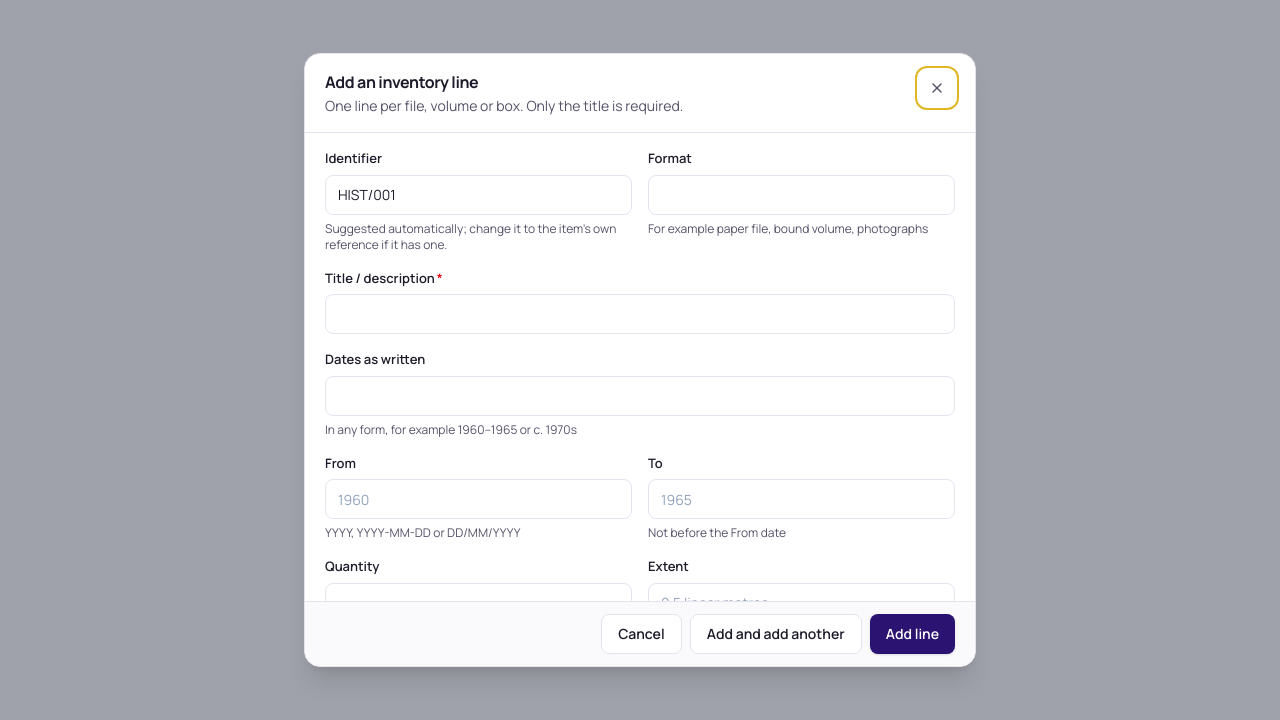
InventoryLineDialog › keeps the form open with the next identifier after "Add and add another"
The image size is (1280, 720).
Type "Board minutes" into the field labelled "Title / description*" at (640, 314), box [325,294,955,334]
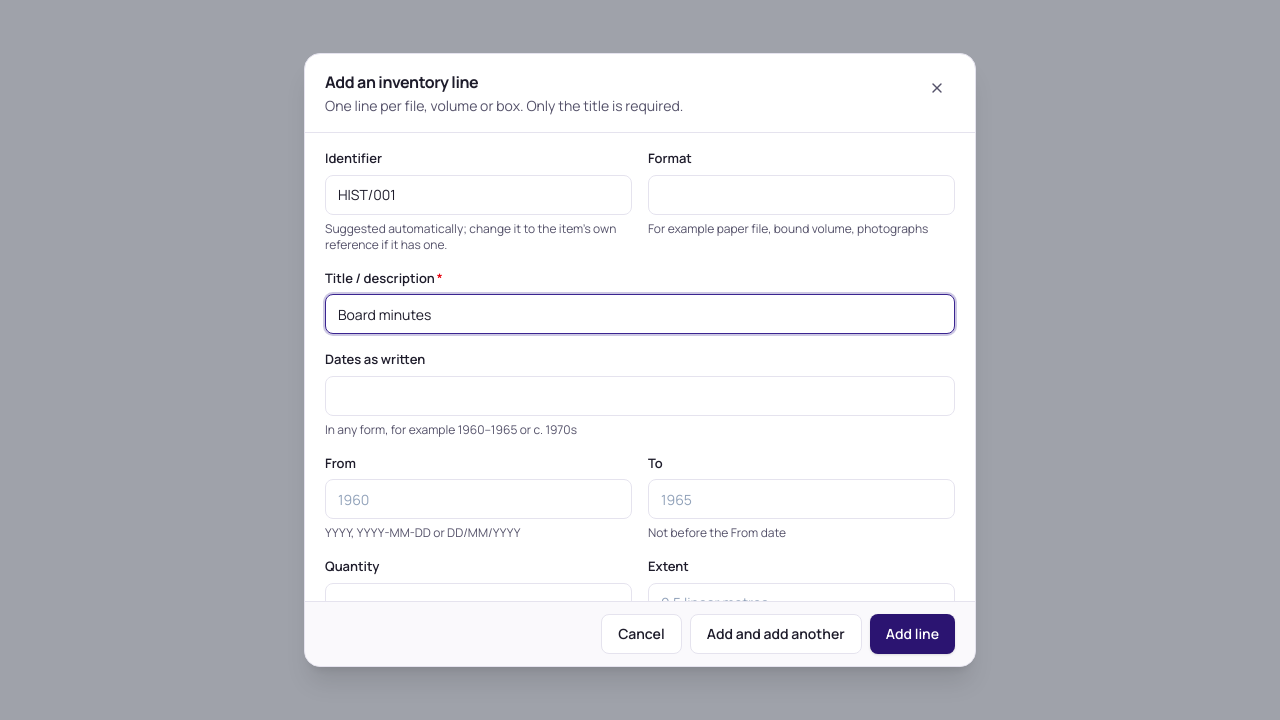
Click the button "Add and add another" at (776, 634), box [690,614,862,654]
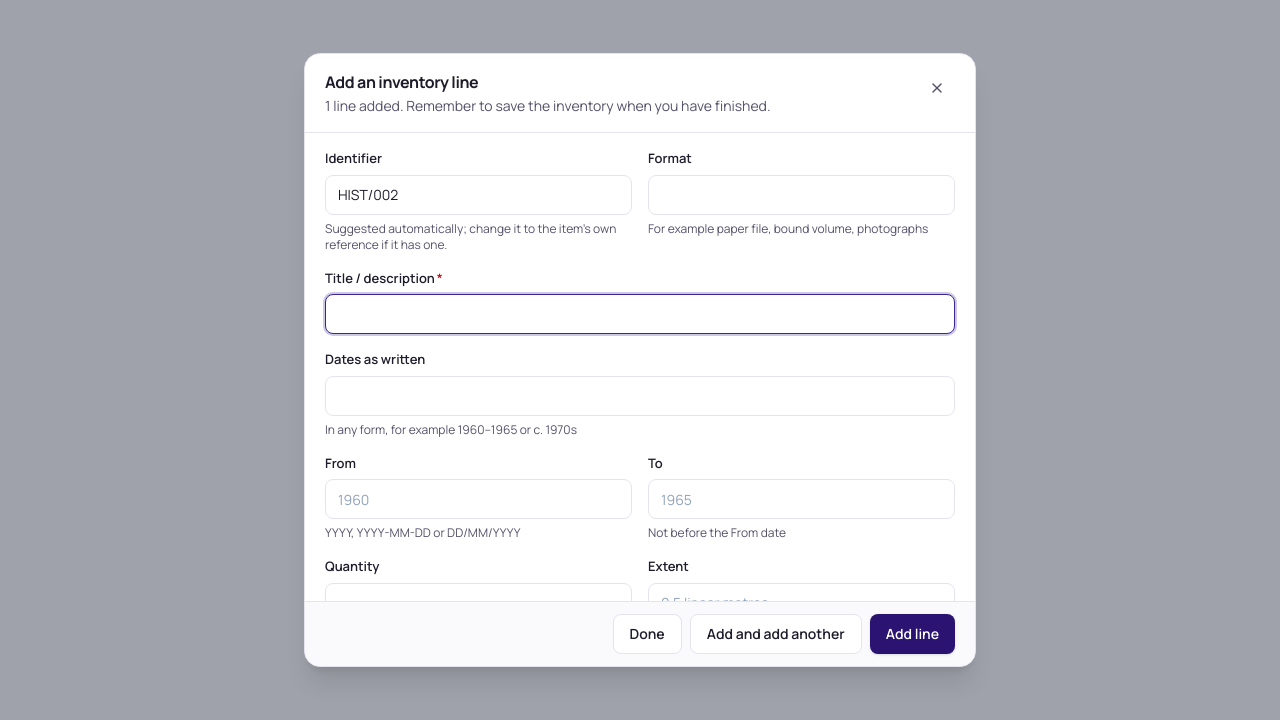
Expected: the field labelled "Identifier" holds "HIST/002", [325,174,632,214]
Expected: the field labelled "Title / description*" is empty, [325,294,955,334]
Expected: the text "1 line added" is shown, [325,96,770,115]
